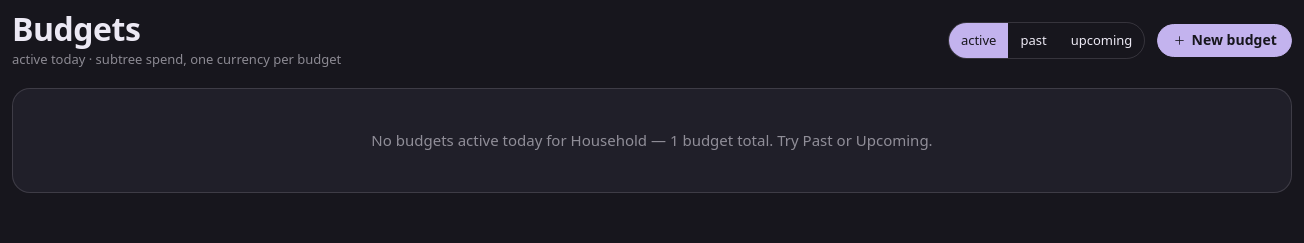
a past budget is reachable by switching to the Past filter
Click the button "past".
click(1034, 41)  # box [1008,24,1059,58]
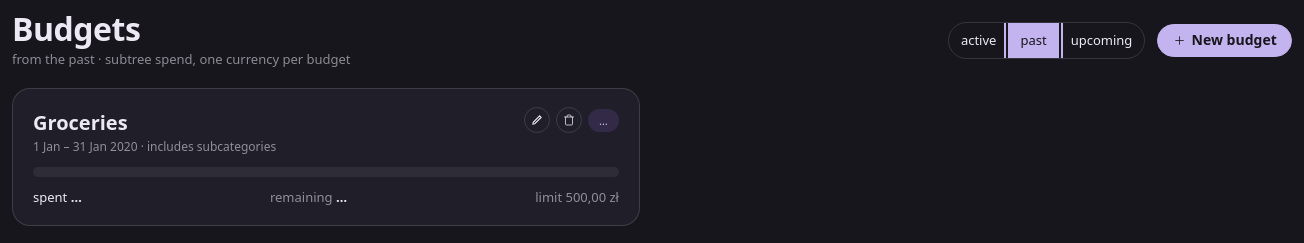
Check: the text "Groceries" is shown, box [33,109,128,136]
